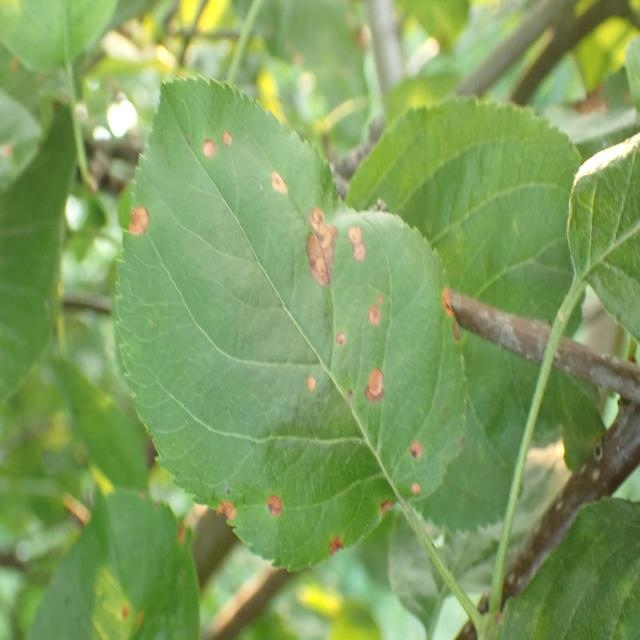Black Rot: (301, 190, 350, 302), (434, 242, 472, 358), (124, 188, 166, 256), (294, 362, 341, 420), (258, 469, 296, 540), (358, 362, 398, 425), (346, 212, 380, 286), (204, 488, 243, 544), (256, 151, 291, 210), (182, 113, 218, 169), (319, 316, 358, 359), (365, 486, 402, 526), (354, 298, 390, 334), (402, 470, 433, 504), (323, 526, 350, 561), (404, 436, 431, 468), (219, 122, 240, 162)
